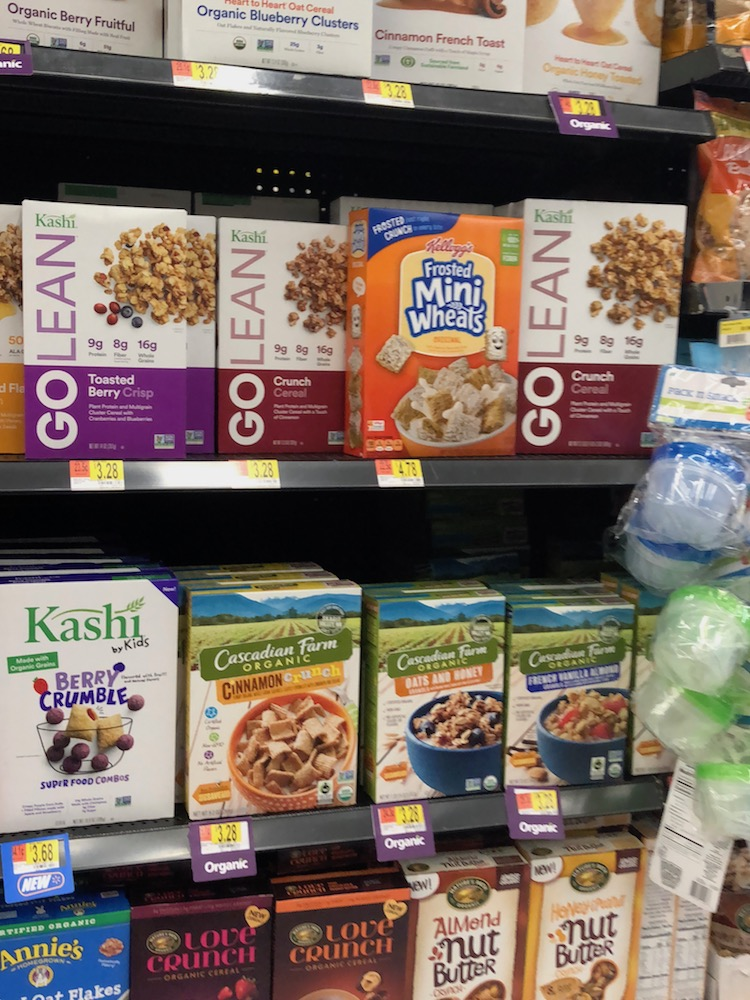Frosted Mini Original -9295869: (353, 205, 522, 452)
